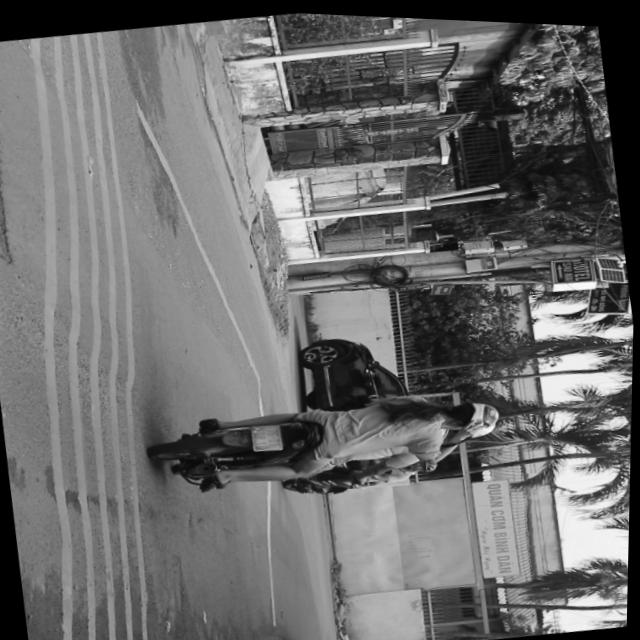helmet: (441, 391, 504, 433)
licenseplate: (151, 365, 509, 510)
nohelmet: (253, 421, 285, 450)
